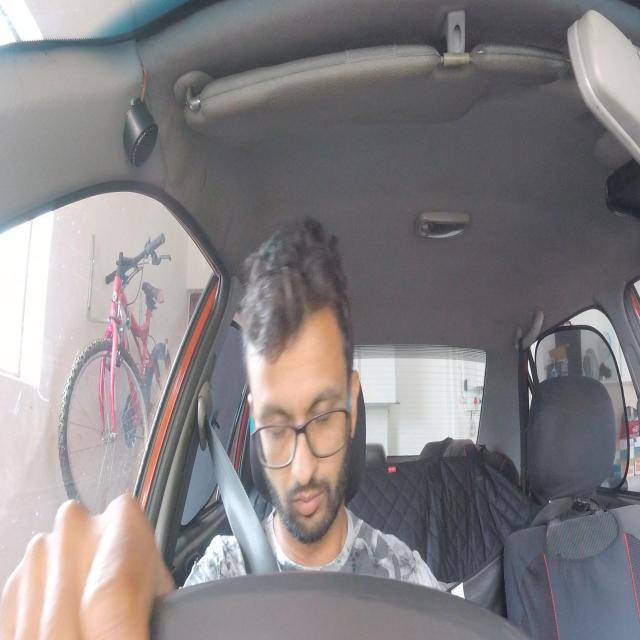close: (308, 387, 341, 430), (263, 402, 291, 445)
